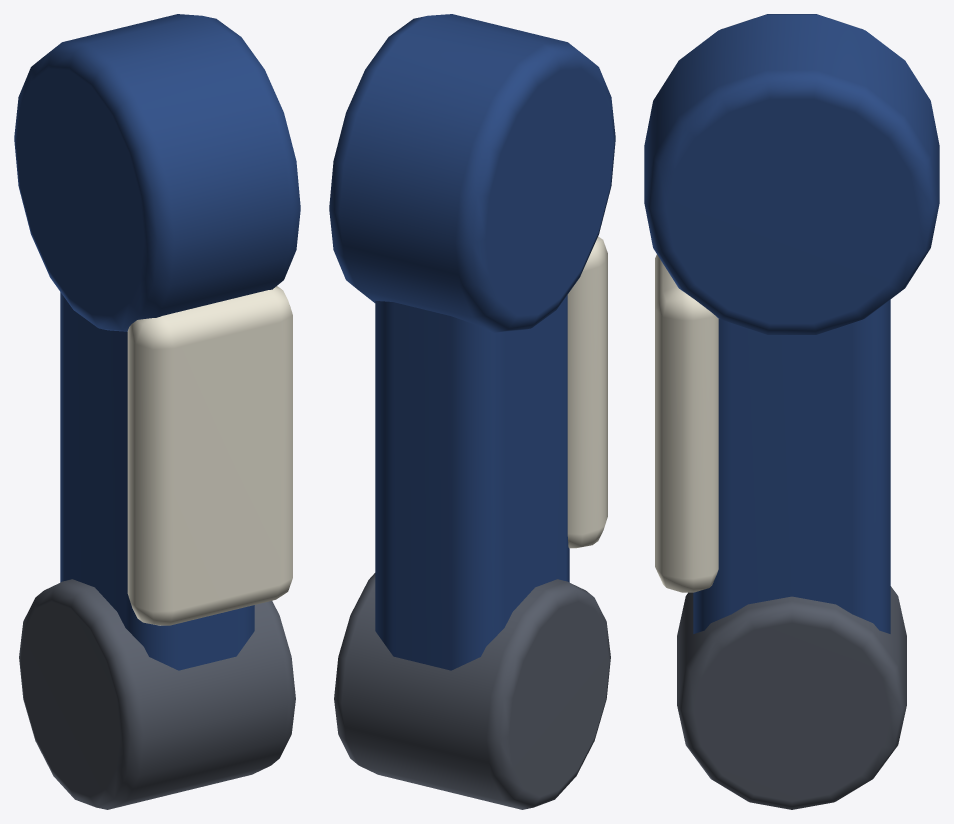
The model's file is walker_thigh.glb.
3 renders of one model, left to right at view 1: azimuth 30°, elevation 25°; view 2: azimuth 150°, elevation 25°; view 3: azimuth 270°, elevation 25°, orthographic.
Visible parts, largest first — view 1: thigh_joint, thigh_plate, knee, thigh; view 2: thigh_joint, thigh, knee, thigh_plate; view 3: thigh_joint, thigh, knee, thigh_plate.
Part boxes in pixels (<box>): thigh_joint: <box>14,14,300,331</box>; thigh_plate: <box>127,286,292,625</box>; knee: <box>19,579,295,809</box>; thigh: <box>60,292,254,670</box>; thigh_joint: <box>329,14,615,332</box>; thigh: <box>375,295,569,670</box>; knee: <box>334,573,610,809</box>; thigh_plate: <box>567,236,607,548</box>; thigh_joint: <box>644,14,939,334</box>; thigh: <box>693,299,890,633</box>; knee: <box>677,586,906,809</box>; thigh_plate: <box>655,254,718,592</box>.
Size of the model in its own units: 0.36 by 1.48 by 0.54.
